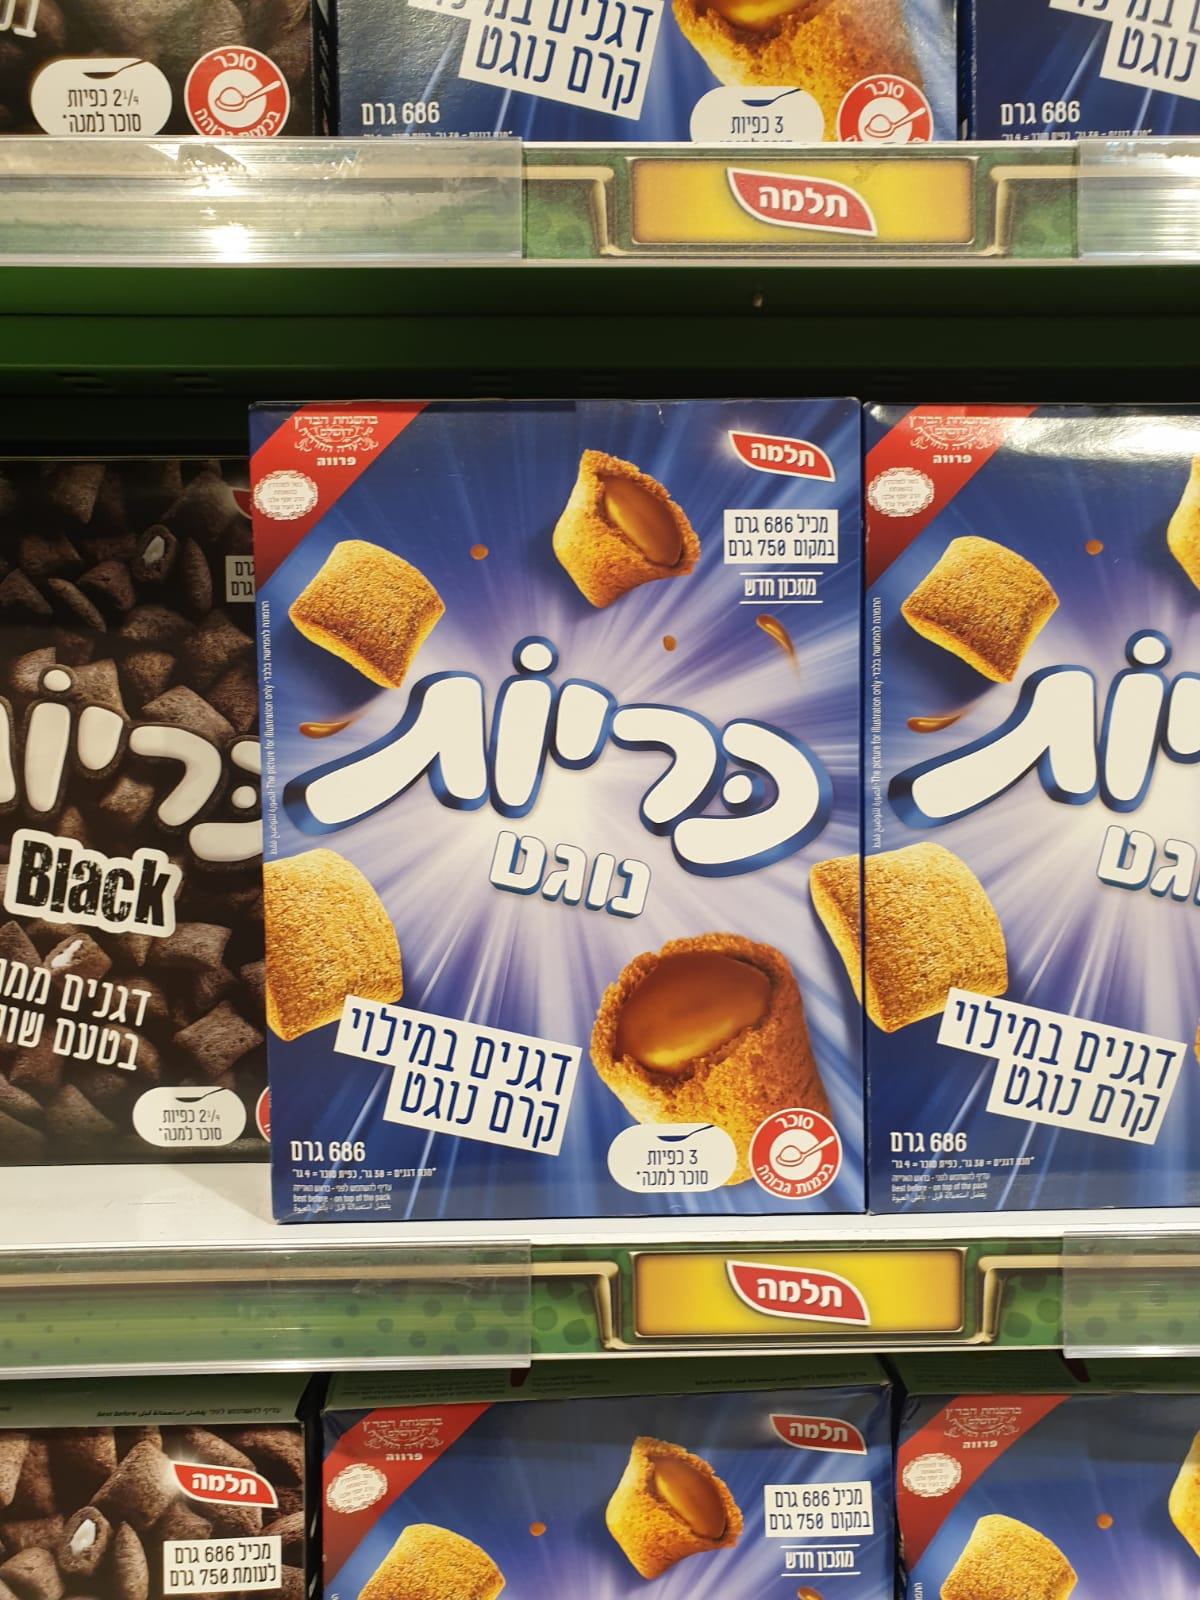sugar: (184, 47, 291, 141), (747, 1111, 842, 1201), (839, 76, 934, 155)
